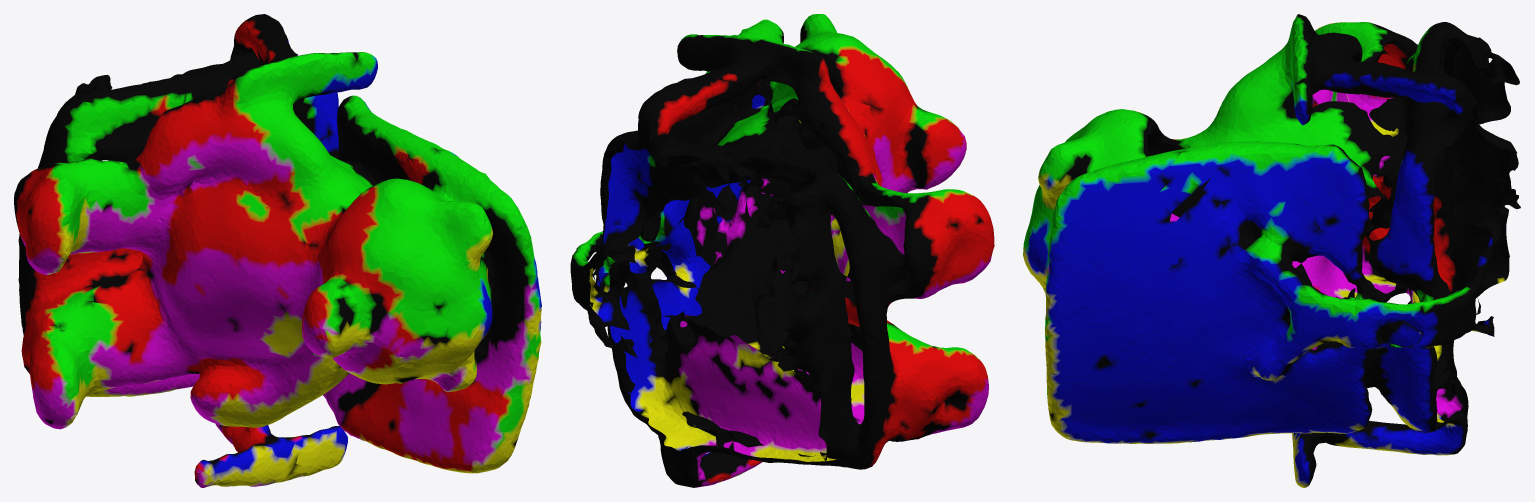
3 views of the same model, side by side, from view 1: azimuth 30°, elevation 25°; view 2: azimuth 150°, elevation 25°; view 3: azimuth 270°, elevation 25° (orthographic). The views are drawn at different scales.
Bounding box in the file's own units: 0.6178 × 0.6552 × 0.6854.
